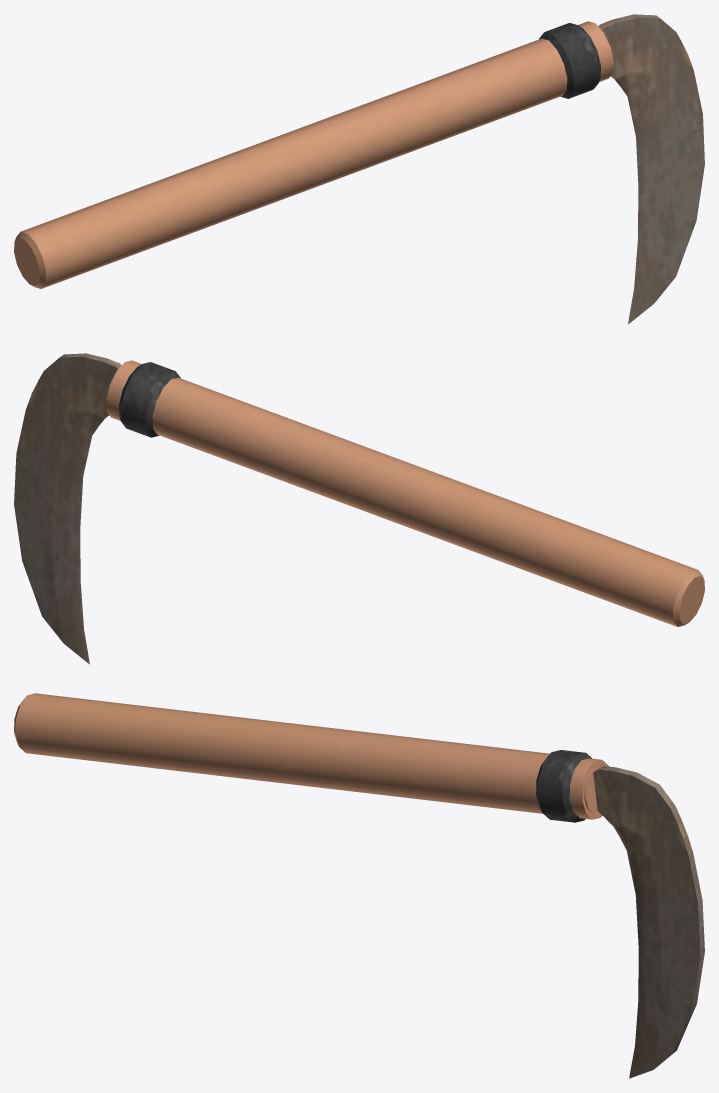
Rendered from sickle.glb.
3 views of the same model, one above another, from view 1: azimuth 30°, elevation 25°; view 2: azimuth 150°, elevation 25°; view 3: azimuth 330°, elevation 25° (orthographic).
Parts seen in each view (by area): view 1: tool; view 2: tool; view 3: tool.
Boxes of the visible parts, bbox=[...] form: tool: bbox=[14, 14, 704, 324]; tool: bbox=[14, 353, 704, 664]; tool: bbox=[14, 693, 704, 1078].
Bounding box in the file's own units: 0.5086 × 0.2238 × 0.0461.
1 material, 1 textured.
